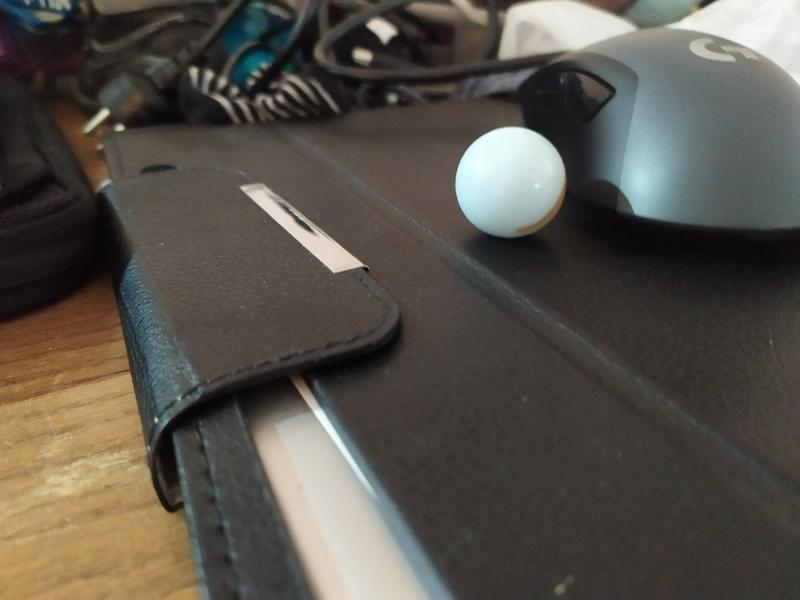Warning: (452, 124, 571, 242)
